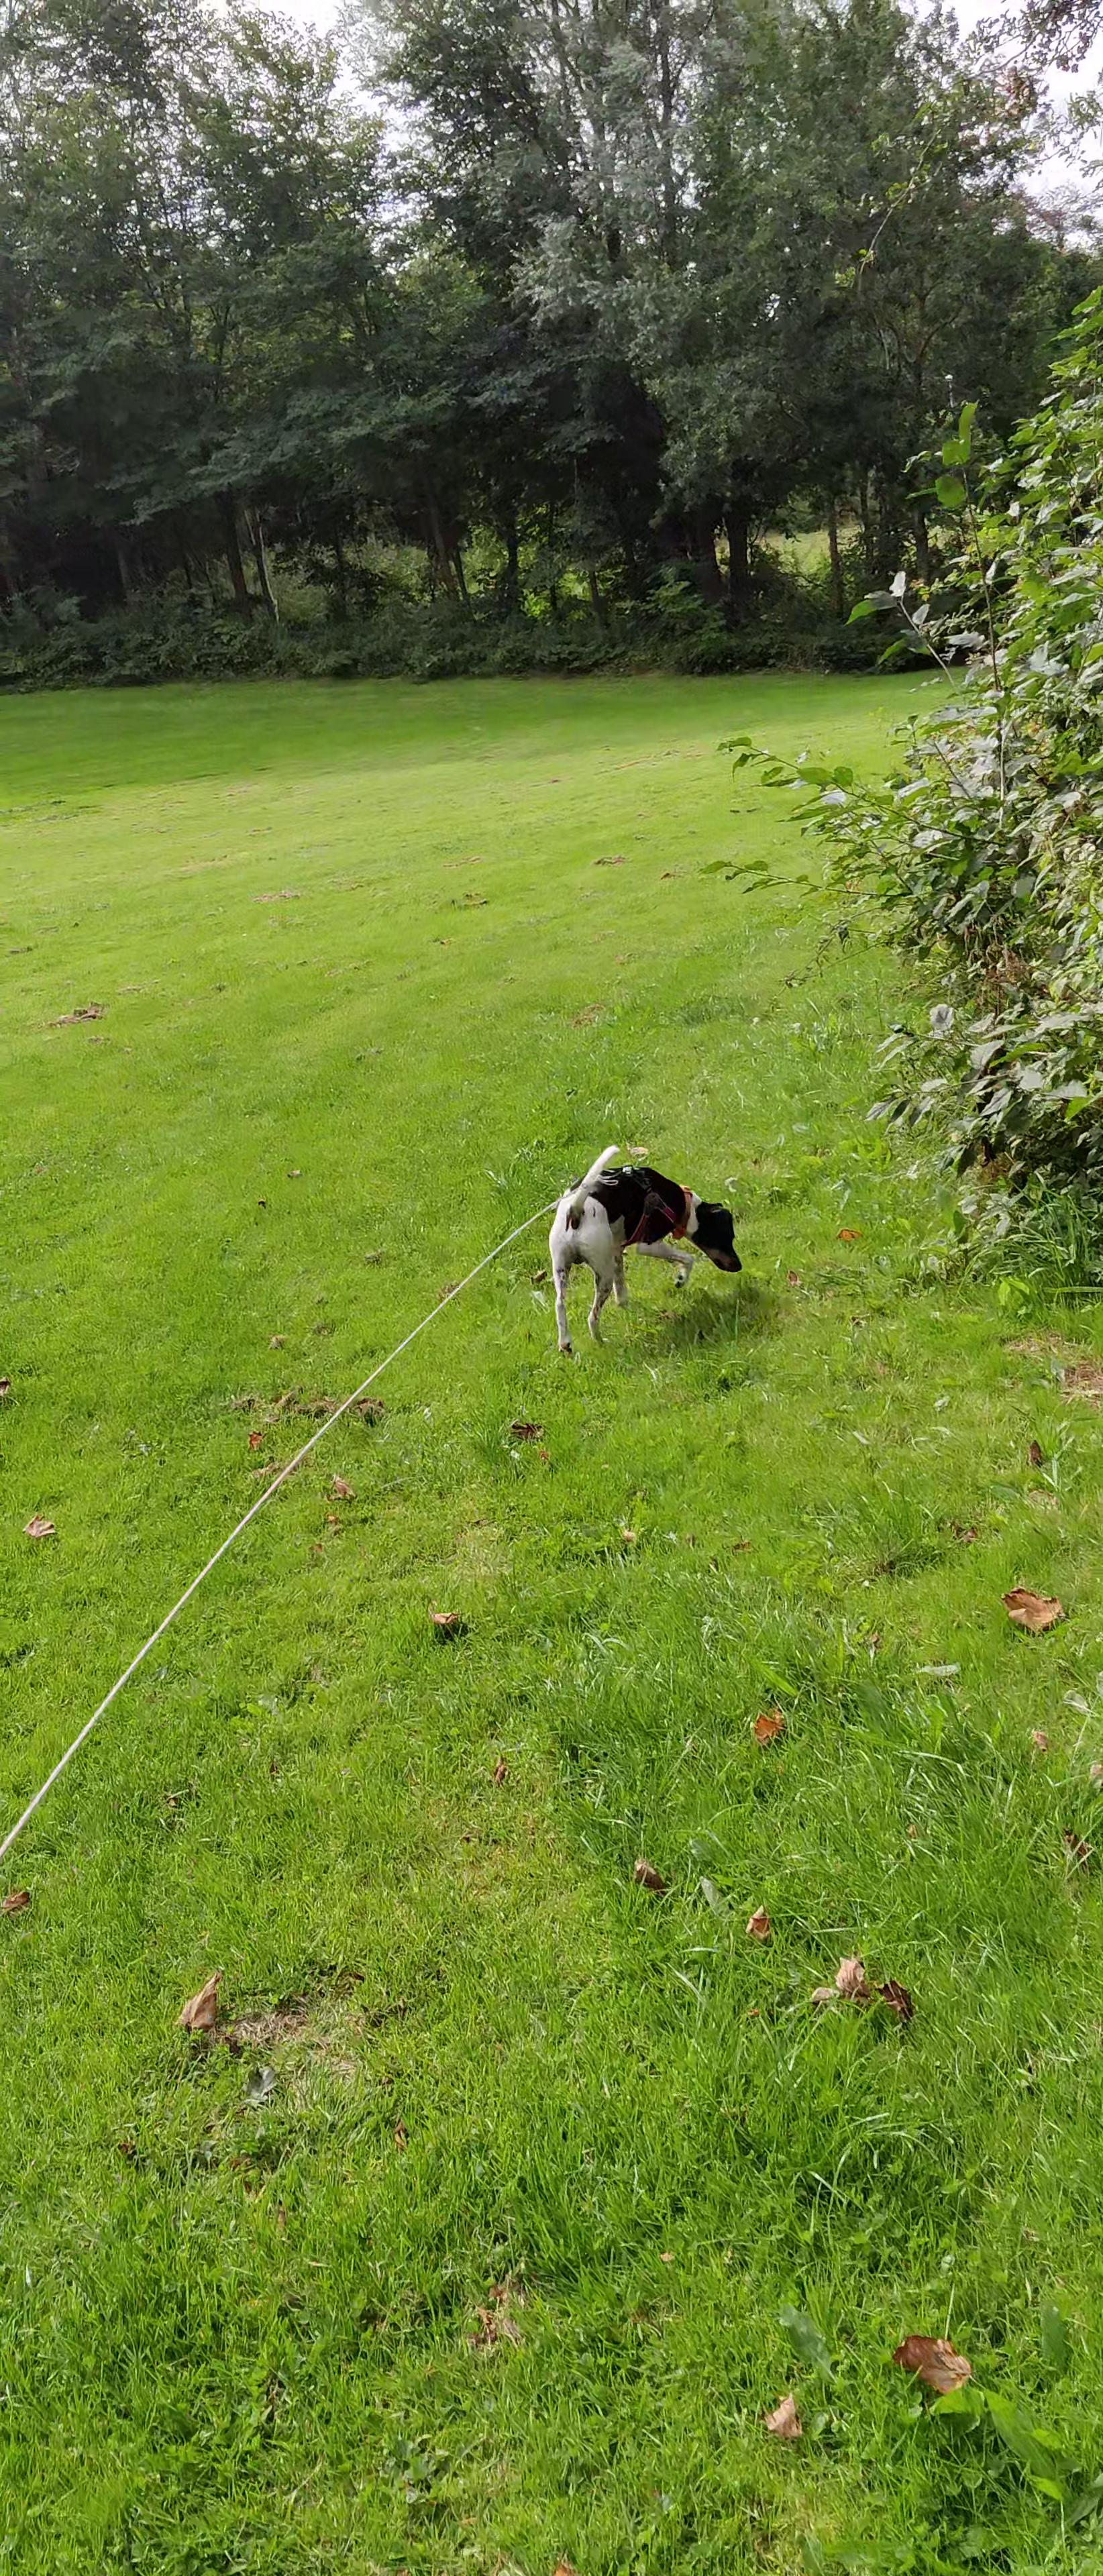Dog: (538, 1132, 750, 1357)
